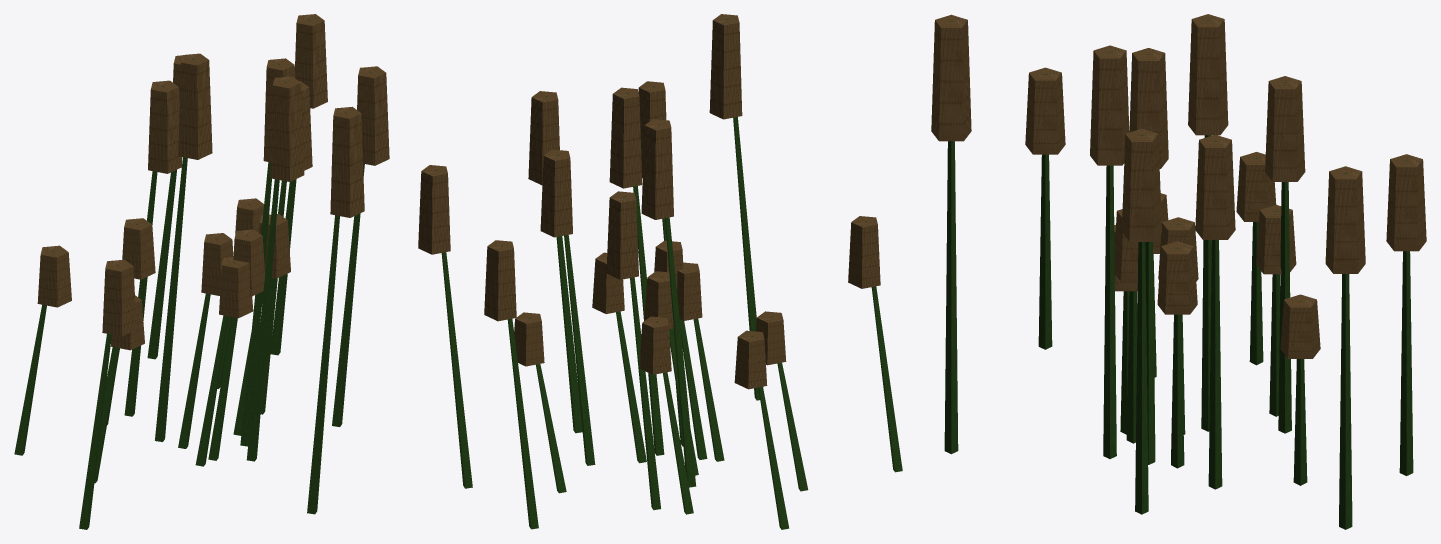
The model's file is reed_patch_01.fbx.
3 views of the same model, side by side, from view 1: azimuth 30°, elevation 25°; view 2: azimuth 150°, elevation 25°; view 3: azimuth 270°, elevation 25° (orthographic). The views are drawn at different scales.
Parts seen in each view (by area): view 1: reed_patch_01_LOD0; view 2: reed_patch_01_LOD0; view 3: reed_patch_01_LOD0.
Part boxes in pixels (x1,y1,x2,y2): reed_patch_01_LOD0: (14,14,389,529); reed_patch_01_LOD0: (418,14,902,529); reed_patch_01_LOD0: (931,14,1426,529).
Size of what is drawn, in the model's own units: 1 by 1 by 1.
